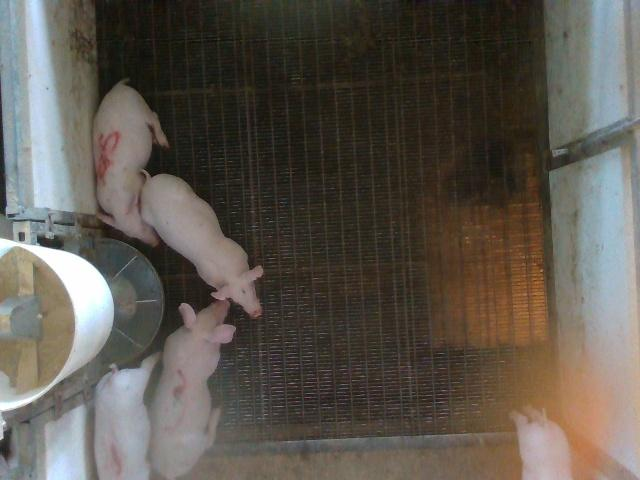pig-1: (95, 352, 161, 478)
pig-3: (150, 300, 235, 479)
pig-5: (94, 79, 169, 246)
